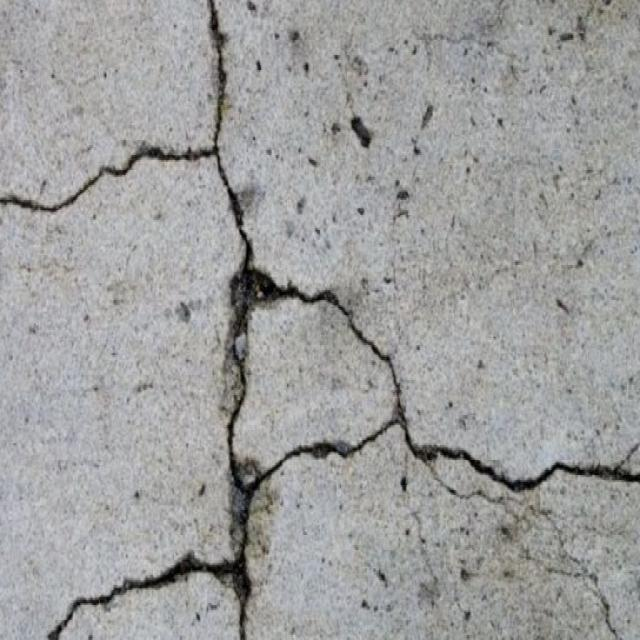crack: (204, 0, 275, 488), (48, 490, 271, 638), (452, 492, 622, 636), (404, 407, 638, 493), (1, 137, 224, 216), (276, 278, 403, 407), (276, 408, 404, 473)
